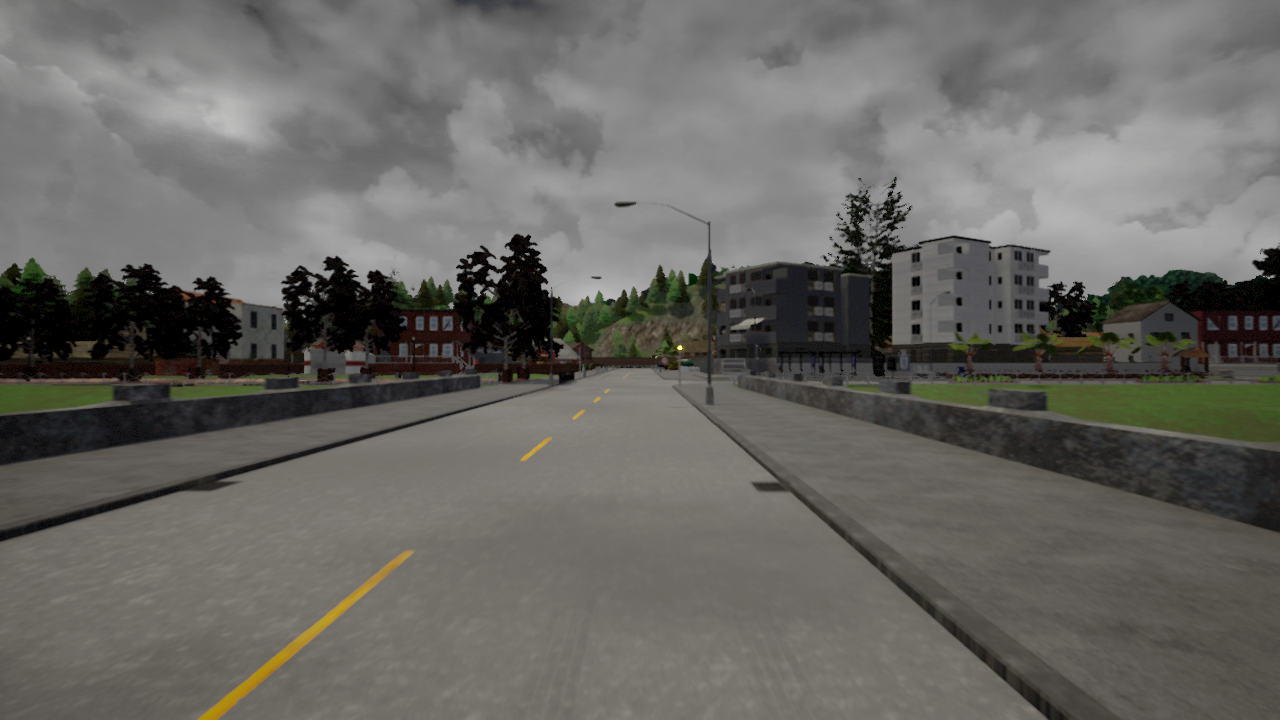yellow: (676, 341, 683, 357)
